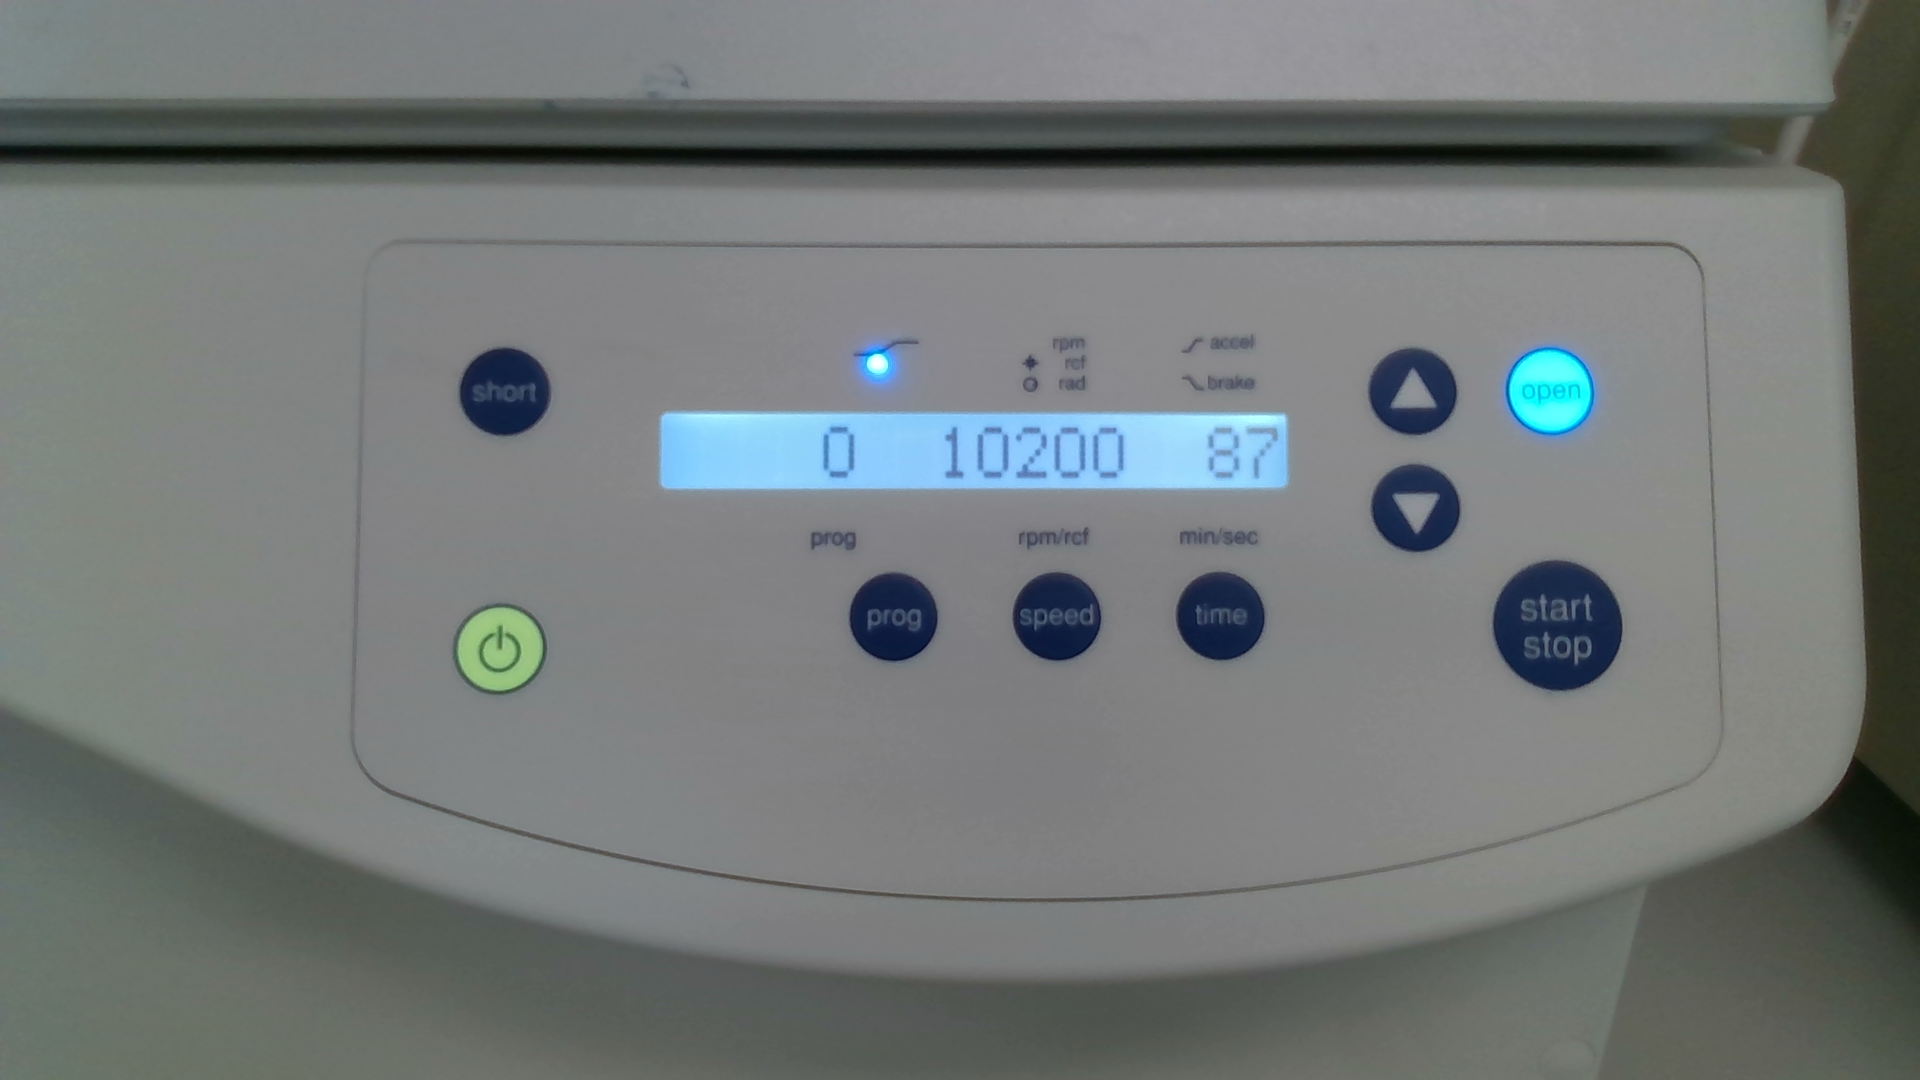0: (823, 427, 855, 477), (1054, 427, 1085, 477), (977, 427, 1007, 477), (1093, 427, 1124, 477)
1: (944, 426, 964, 479)
2: (1015, 427, 1047, 477)
7: (1247, 427, 1278, 477)
8: (1208, 427, 1240, 477)
open_on: (1505, 345, 1596, 436)
power_on: (451, 603, 547, 696)
